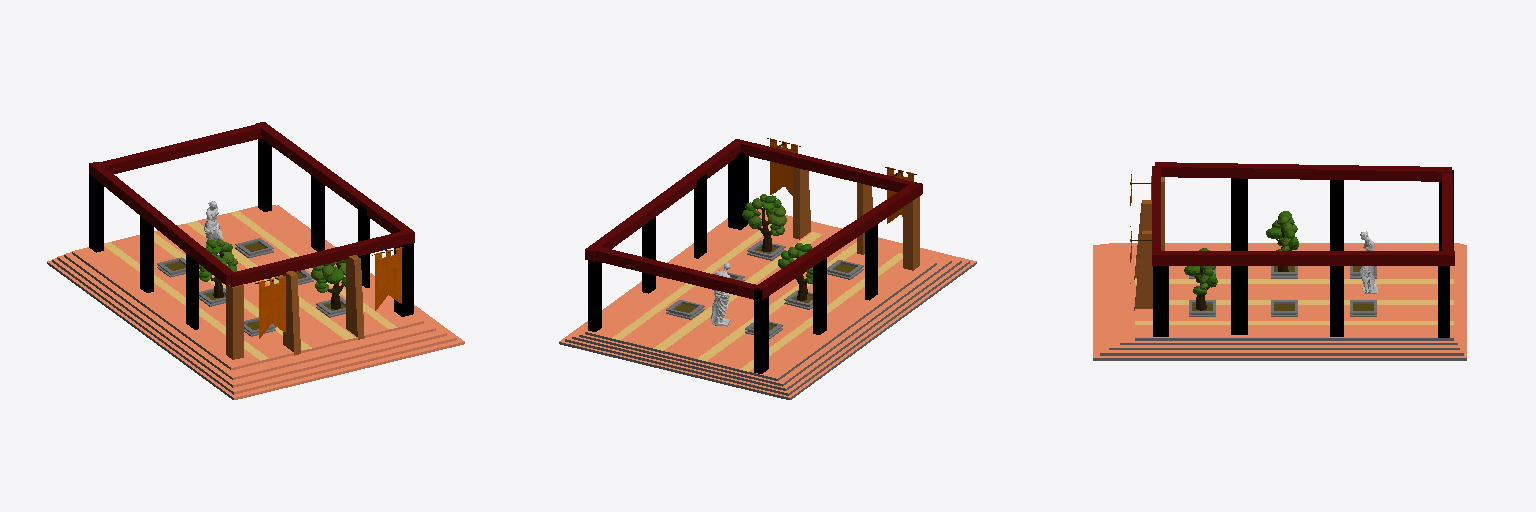
Rendered from 3dmodel.obj.
3 views of the same model, side by side, from view 1: azimuth 30°, elevation 25°; view 2: azimuth 150°, elevation 25°; view 3: azimuth 270°, elevation 25° (orthographic).
Parts seen in each view (by area): view 1: pCube170 polySurface30, pCube170 polySurface31, pCube170 polySurface32, pCube170 polySurface33, pCube170 polySurface171, pCube170 polySurface73, pCube170 polySurface34, pCube170 polySurface60, pCube170 polySurface139, polySurface184, polySurface178 flag:building:alexandriaRender:alexandria:pCylind, pCube170 polySurface154 (+11 smaller); view 2: pCube170 polySurface30, pCube170 polySurface171, pCube170 polySurface31, pCube170 polySurface73, pCube170 polySurface32, pCube170 polySurface33, pCube170 polySurface139, pCube170 polySurface60, pCube170 polySurface34, Oak2, pCube170 polySurface104, pCube170 polySurface149 (+11 smaller); view 3: pCube170 polySurface30, pCube170 polySurface73, pCube170 polySurface171, pCube170 polySurface33, pCube170 polySurface31, pCube170 polySurface32, pCube170 polySurface34, pCube170 polySurface174, pCube170 polySurface172, pCube170 polySurface104, pCube170 polySurface154, pCube170 polySurface175 (+7 smaller).
Boxes of the visible parts, x1=… form: pCube170 polySurface30: x1=72, y1=206, x2=423, y2=370; pCube170 polySurface31: x1=64, y1=208, x2=435, y2=379; pCube170 polySurface32: x1=57, y1=205, x2=446, y2=387; pCube170 polySurface33: x1=52, y1=205, x2=456, y2=394; pCube170 polySurface171: x1=89, y1=162, x2=235, y2=285; pCube170 polySurface73: x1=256, y1=122, x2=414, y2=243; pCube170 polySurface34: x1=47, y1=205, x2=464, y2=399; pCube170 polySurface60: x1=230, y1=231, x2=406, y2=286; pCube170 polySurface139: x1=99, y1=124, x2=262, y2=173; polySurface184: x1=372, y1=244, x2=404, y2=310; polySurface178 flag:building:alexandriaRender:alexandria:pCylind: x1=258, y1=276, x2=285, y2=338; pCube170 polySurface154: x1=346, y1=255, x2=364, y2=339; pCube170 polySurface30: x1=585, y1=220, x2=936, y2=380; pCube170 polySurface171: x1=754, y1=182, x2=922, y2=299; pCube170 polySurface31: x1=579, y1=214, x2=951, y2=386; pCube170 polySurface73: x1=585, y1=139, x2=743, y2=261; pCube170 polySurface32: x1=572, y1=210, x2=961, y2=390; pCube170 polySurface33: x1=565, y1=209, x2=969, y2=395; pCube170 polySurface139: x1=594, y1=246, x2=756, y2=299; pCube170 polySurface60: x1=741, y1=141, x2=912, y2=191; pCube170 polySurface34: x1=559, y1=210, x2=976, y2=399; Oak2: x1=742, y1=194, x2=786, y2=251; pCube170 polySurface104: x1=728, y1=152, x2=748, y2=229; pCube170 polySurface149: x1=754, y1=290, x2=768, y2=373; pCube170 polySurface30: x1=1135, y1=244, x2=1453, y2=340; pCube170 polySurface73: x1=1152, y1=251, x2=1454, y2=265; pCube170 polySurface171: x1=1154, y1=162, x2=1451, y2=181; pCube170 polySurface33: x1=1100, y1=244, x2=1463, y2=355; pCube170 polySurface31: x1=1120, y1=243, x2=1457, y2=344; pCube170 polySurface32: x1=1109, y1=243, x2=1459, y2=349; pCube170 polySurface34: x1=1093, y1=245, x2=1466, y2=360; pCube170 polySurface174: x1=1231, y1=178, x2=1247, y2=250; pCube170 polySurface172: x1=1231, y1=266, x2=1247, y2=334; pCube170 polySurface104: x1=1153, y1=266, x2=1168, y2=336; pCube170 polySurface154: x1=1134, y1=231, x2=1152, y2=310; pCube170 polySurface175: x1=1330, y1=266, x2=1343, y2=336.
Size of the model in its own units: 22.95 by 9.39 by 32.09.